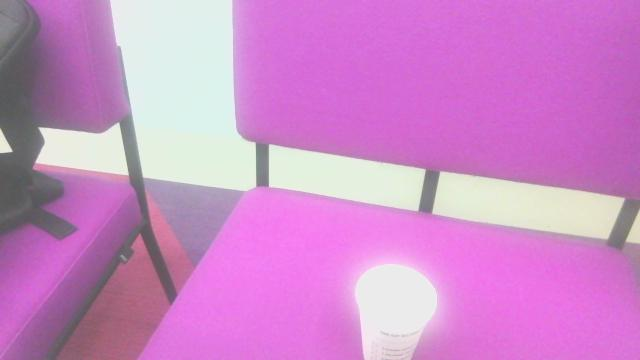cup: (349, 258, 447, 360)
